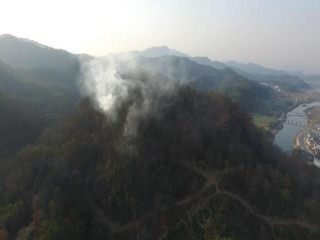smoke: (76, 46, 191, 141)
